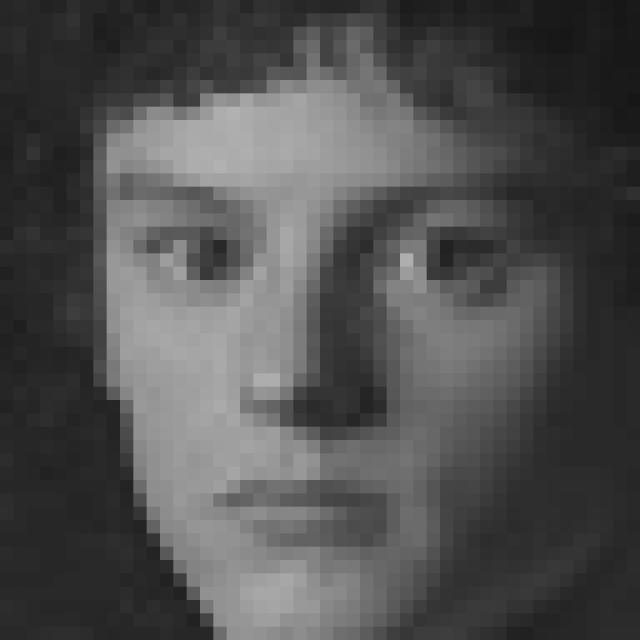neutral: (116, 160, 554, 559)
